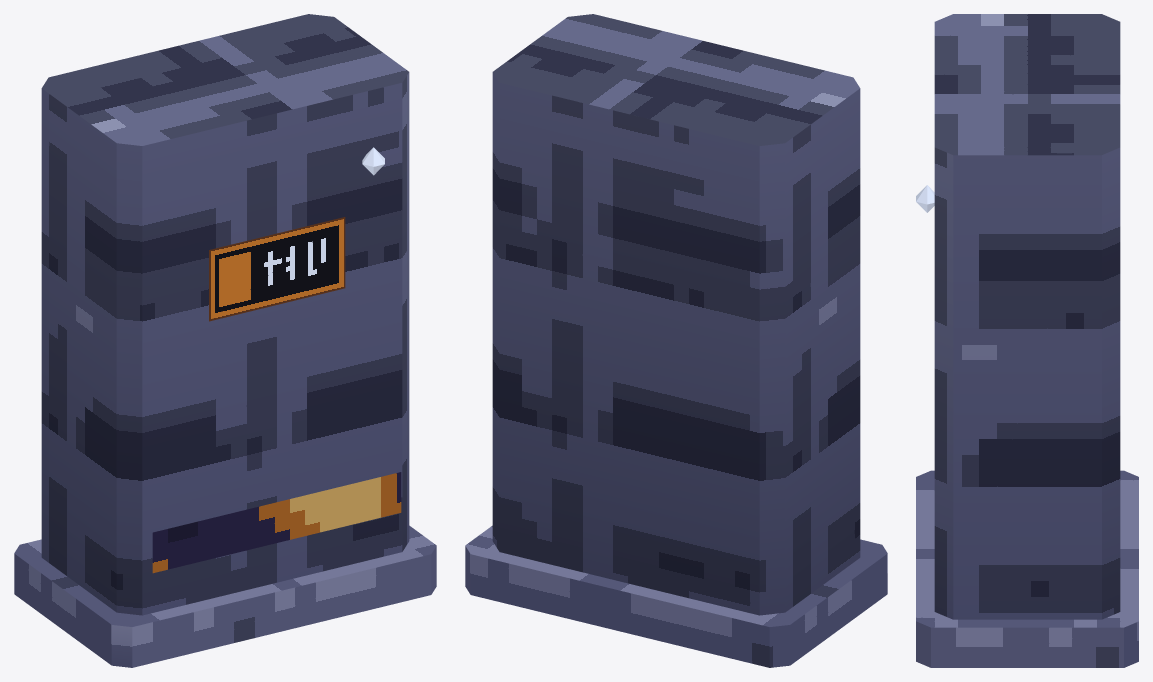
Rendered from cytech.utility.glb.
The picture shows the model from 3 angles, left to right: view 1: azimuth 30°, elevation 25°; view 2: azimuth 150°, elevation 25°; view 3: azimuth 270°, elevation 25°; orthographic projection.
Visible parts, largest first — view 1: kit_box, kit_card_plates; view 2: kit_box; view 3: kit_box.
Part boxes in pixels (x1,y1,x2,y2): kit_box: (14,14,436,667); kit_card_plates: (152,217,401,573); kit_box: (465,14,887,667); kit_box: (916,14,1138,667).
Size of the model in its own units: 1 by 1.5 by 0.6003.
6 materials, 6 textured.
